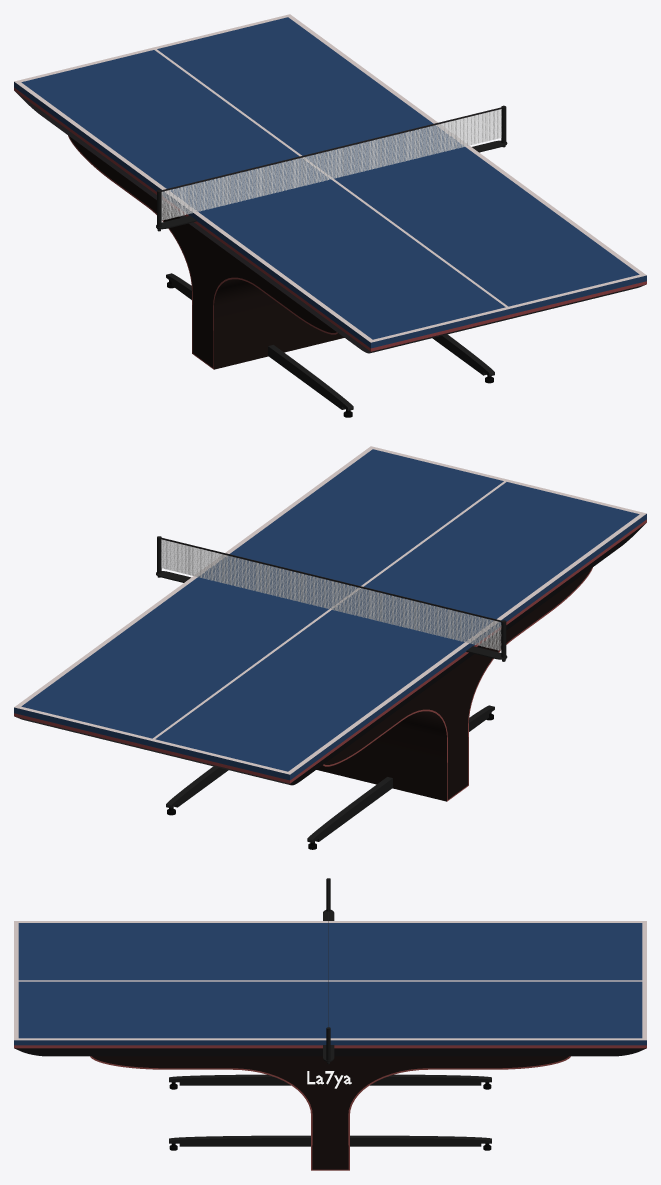
Rendered from tabla_v2.gltf.
3 renders of one model, top to bottom at view 1: azimuth 30°, elevation 25°; view 2: azimuth 150°, elevation 25°; view 3: azimuth 270°, elevation 25°, orthographic. The views are drawn at different scales.
Visible parts, largest first — view 1: Cube.003, Cube.001, Cube.005, Cube.002, Cube.004, Cube.006, Cube.007; view 2: Cube.003, Cube.001, Cube.005, Cube.002, Cube.004, Cube.006, Cube.007; view 3: Cube.003, Cube.001, Cube.004, Cube.002, Cube.006.
Boxes of the visible parts, x1=… form: Cube.003: x1=14, y1=14, x2=646, y2=351; Cube.001: x1=68, y1=135, x2=344, y2=369; Cube.005: x1=161, y1=109, x2=501, y2=220; Cube.002: x1=15, y1=91, x2=645, y2=353; Cube.004: x1=166, y1=273, x2=494, y2=410; Cube.006: x1=156, y1=105, x2=507, y2=231; Cube.007: x1=161, y1=107, x2=501, y2=191; Cube.003: x1=14, y1=446, x2=646, y2=783; Cube.001: x1=316, y1=567, x2=592, y2=801; Cube.005: x1=161, y1=539, x2=501, y2=650; Cube.002: x1=15, y1=523, x2=645, y2=785; Cube.004: x1=166, y1=705, x2=494, y2=842; Cube.006: x1=156, y1=536, x2=507, y2=661; Cube.007: x1=161, y1=537, x2=501, y2=621; Cube.003: x1=14, y1=921, x2=646, y2=1048; Cube.001: x1=90, y1=1056, x2=570, y2=1170; Cube.004: x1=169, y1=1074, x2=491, y2=1146; Cube.002: x1=14, y1=1048, x2=646, y2=1056; Cube.006: x1=323, y1=878, x2=334, y2=1064.
Bounding box in the file's own units: 6.99 × 3.55 × 12.35.
